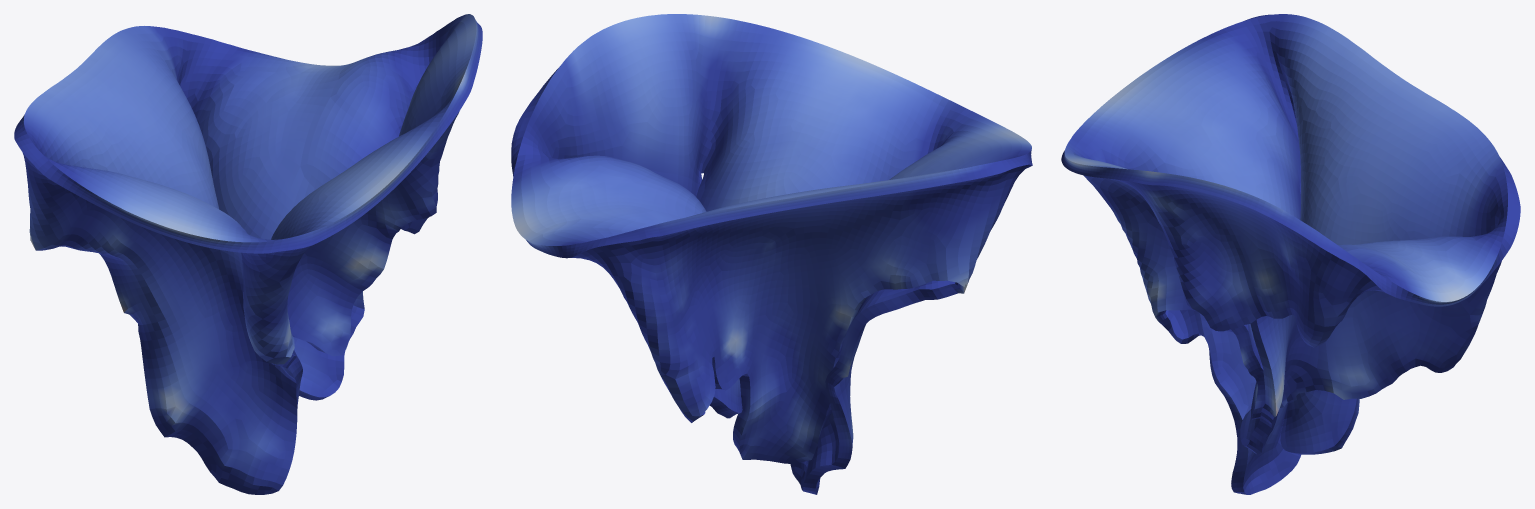
3 views of the same model, side by side, from view 1: azimuth 30°, elevation 25°; view 2: azimuth 150°, elevation 25°; view 3: azimuth 270°, elevation 25° (orthographic). The views are drawn at different scales.
Visible parts, largest first — view 1: OCS14_maxS_18; view 2: OCS14_maxS_18; view 3: OCS14_maxS_18.
Part boxes in pixels (x1,y1,x2,y2): OCS14_maxS_18: (14,14,482,494); OCS14_maxS_18: (511,14,1032,494); OCS14_maxS_18: (1061,14,1520,494).
Bounding box in the file's own units: 1.43 × 1.22 × 1.26.
